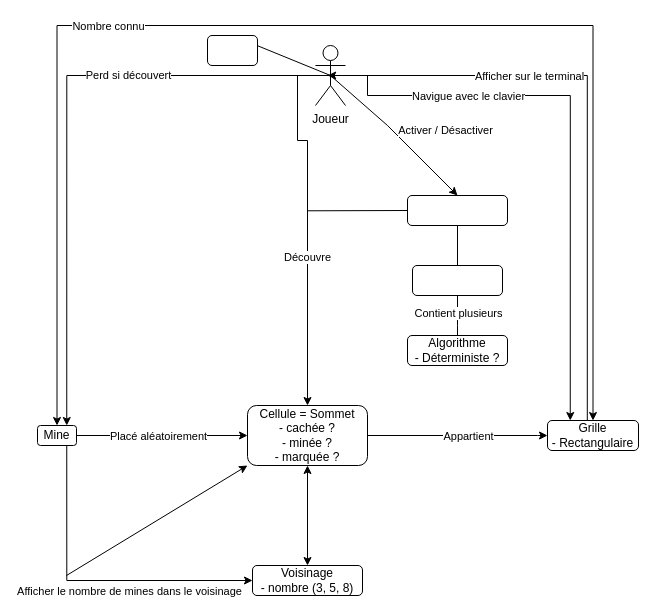
Some shapes in this 657 by 615 pixel diagram are drawn without their labels. Each missing label, with the centre of its shape:
"Aide" goes at point 232,50.
"Jeu Automatique / Ordinateur" goes at point 457,210.
"Stratégie" goes at point 457,280.
